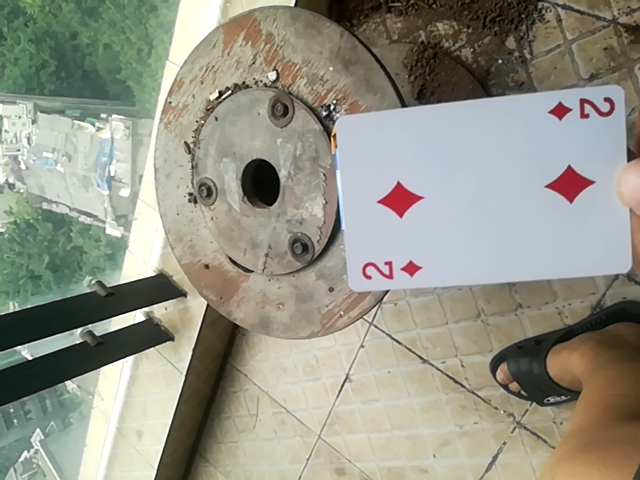fk 2: (328, 80, 628, 292)
